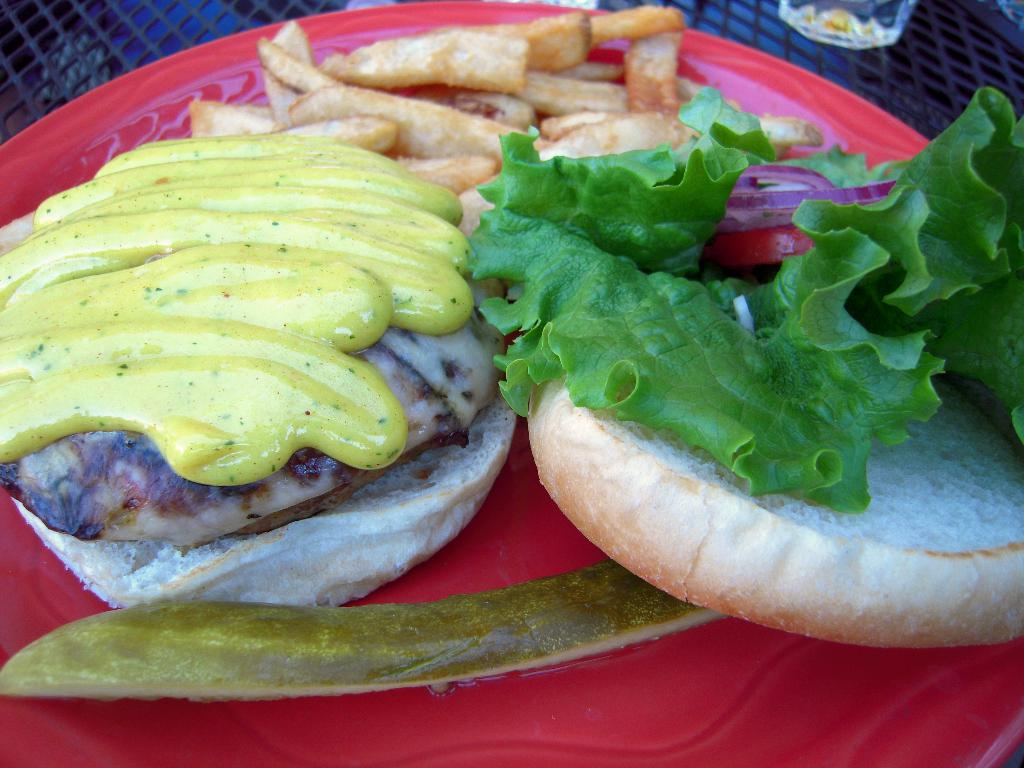Hamburger: (0, 87, 1023, 648)
